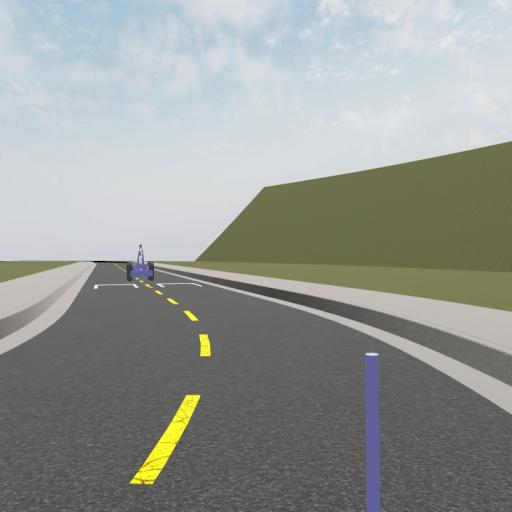ERP-42: (127, 243, 155, 282)
